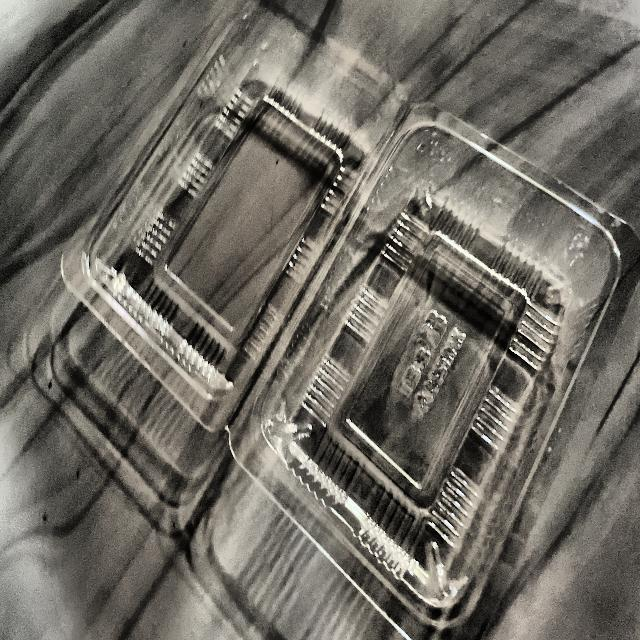plastic container: (117, 28, 574, 621)
